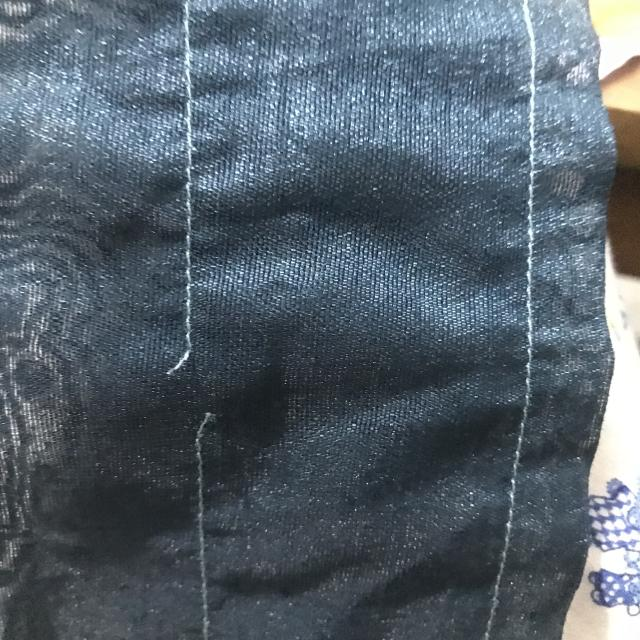broken: (146, 316, 256, 450)
good: (154, 178, 214, 286)
